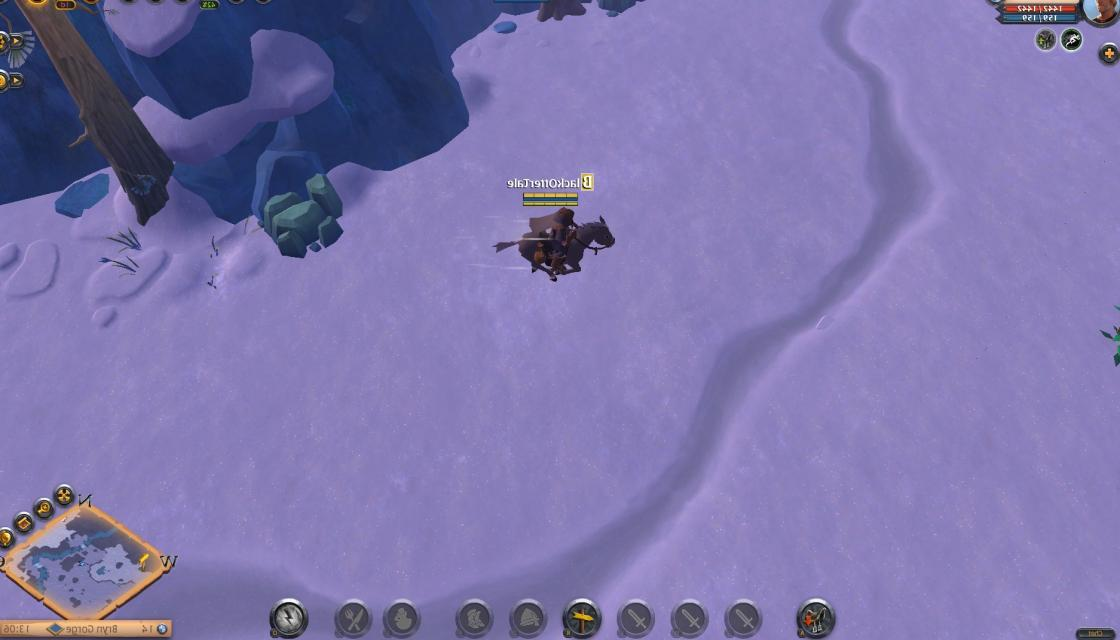sandstone: (264, 172, 344, 261)
